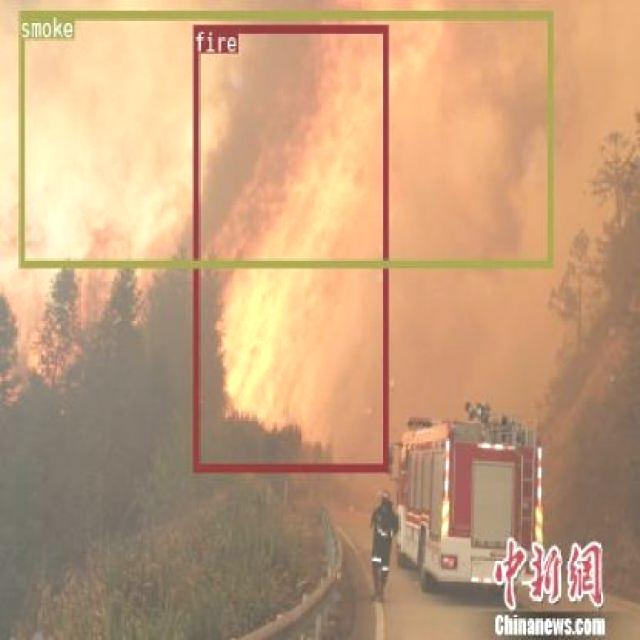fire: (193, 24, 387, 470)
smoke: (18, 9, 552, 266)
